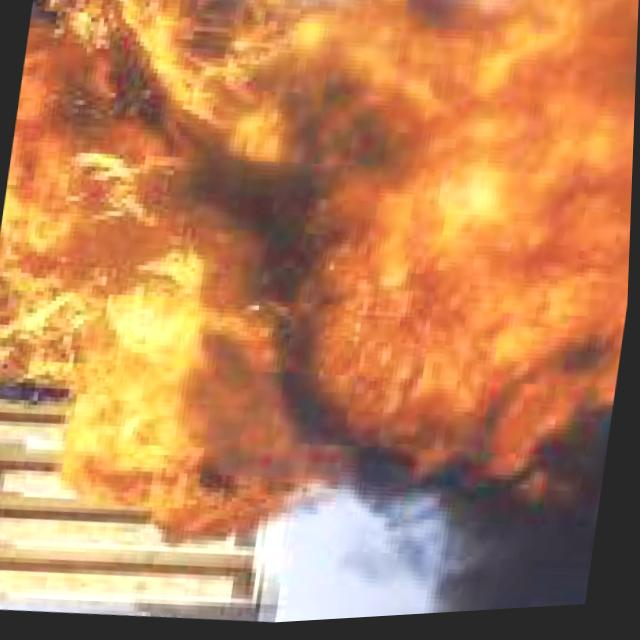smoke: (356, 363, 620, 623)
